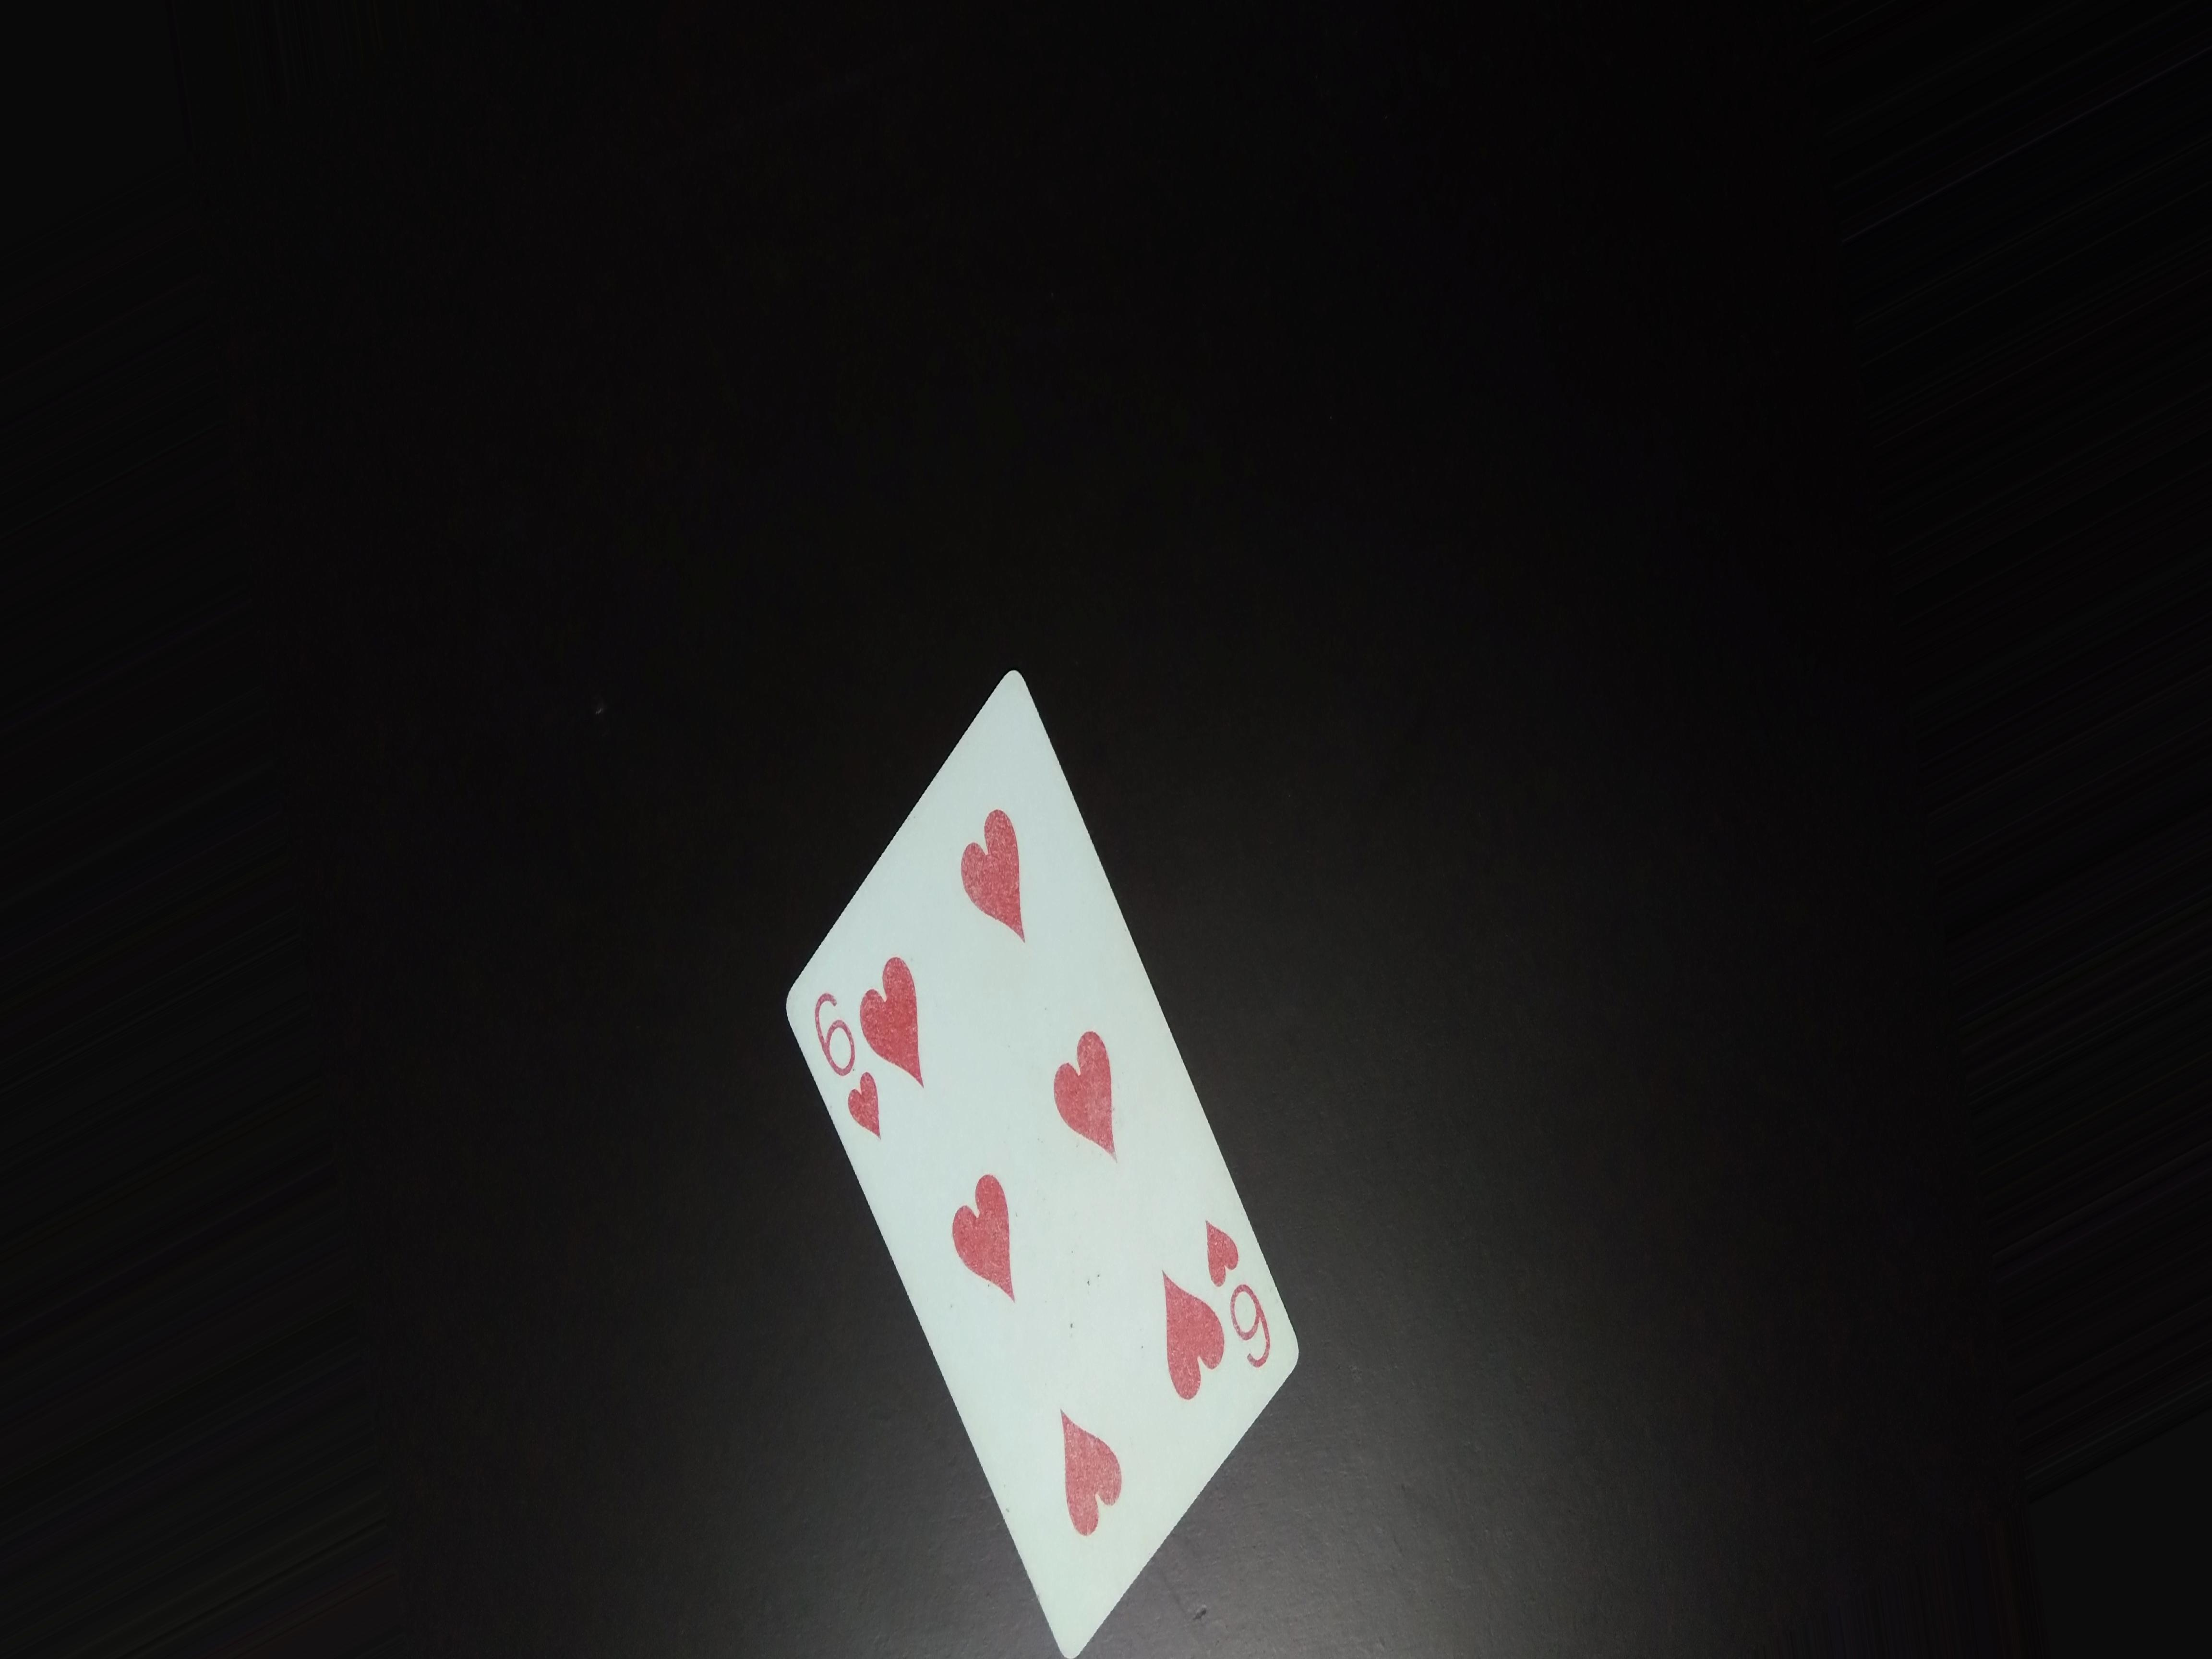6H: (806, 986, 887, 1136)
